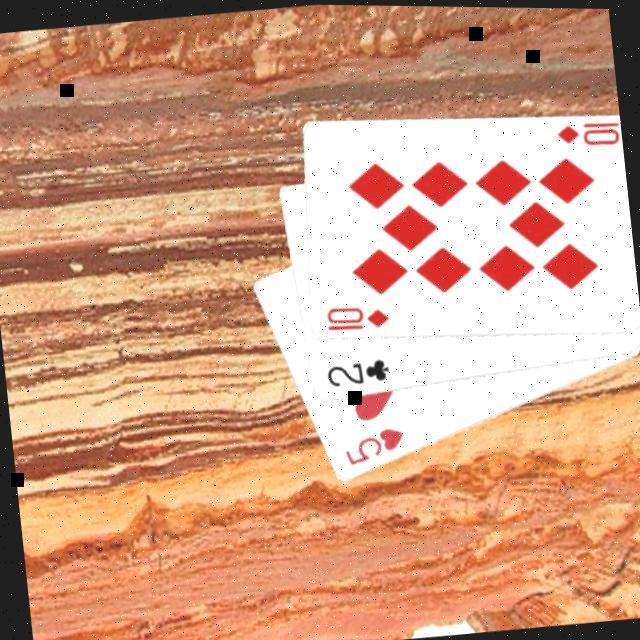10D: (552, 114, 622, 153), (322, 298, 393, 336)
2C: (322, 354, 394, 392)
5H: (338, 422, 411, 470)
